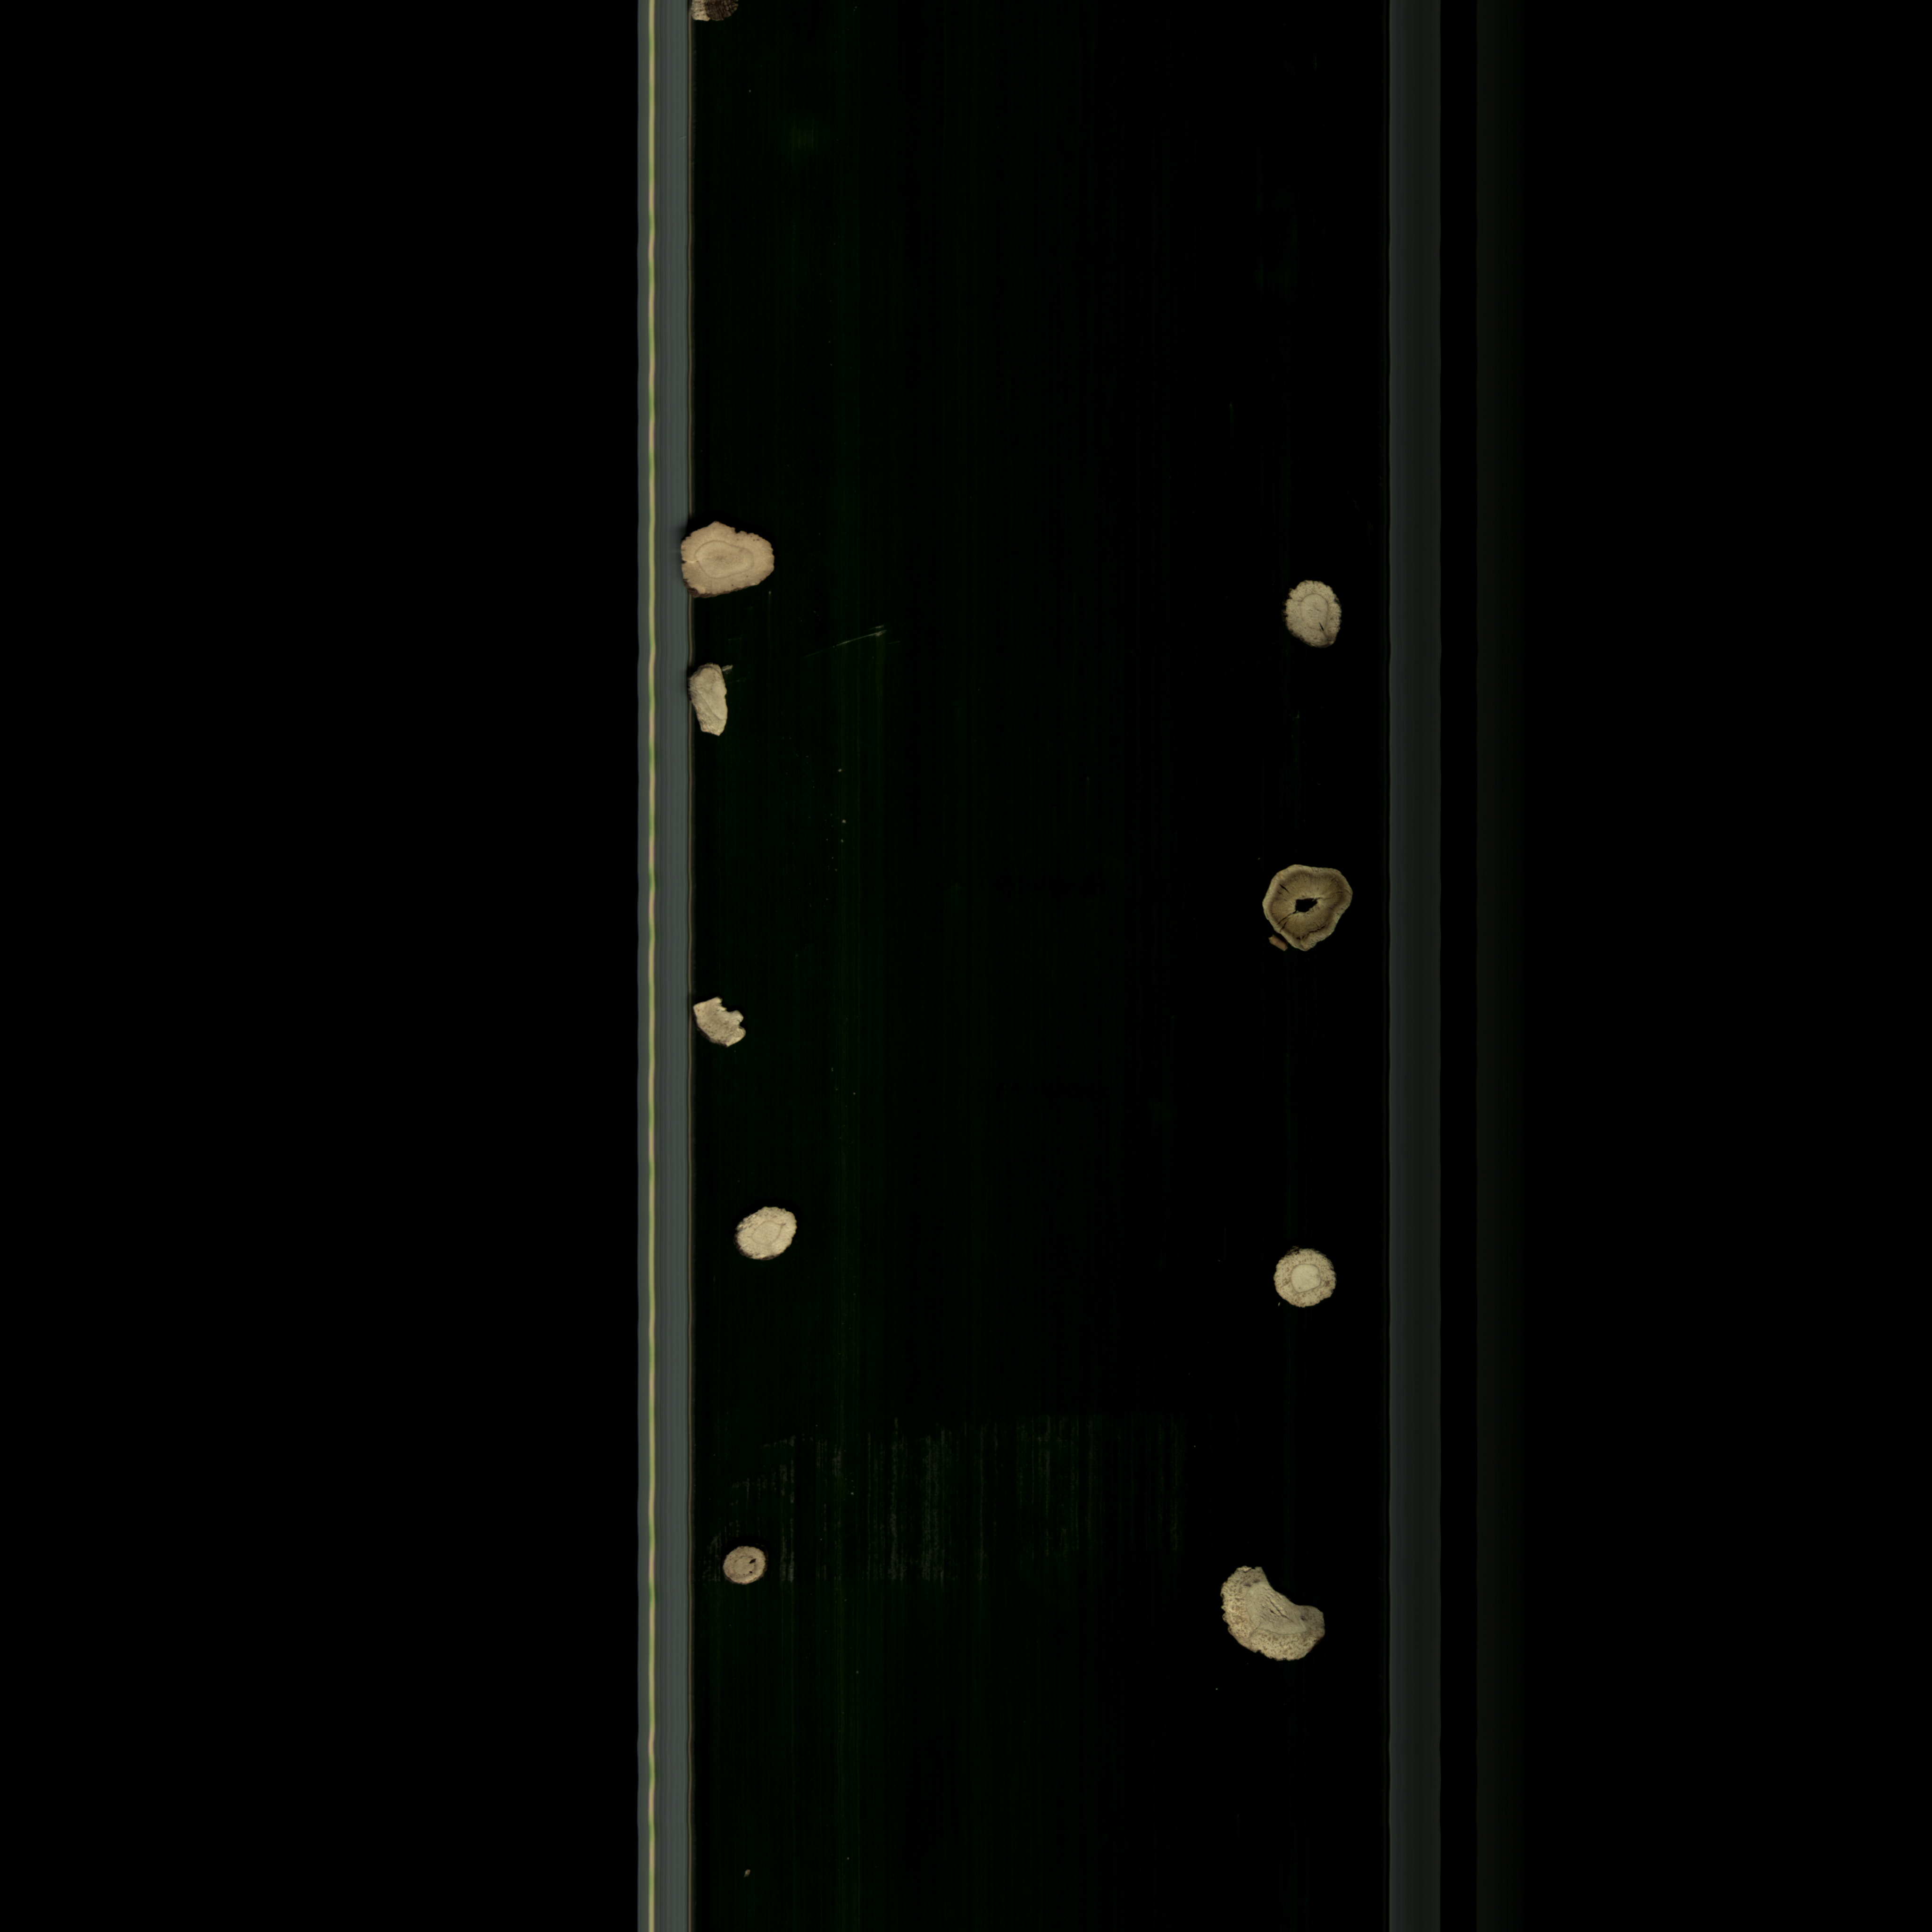debris: (1214, 1560, 1339, 1675)
distortion: (1270, 571, 1352, 660)
dreg: (686, 998, 777, 1069), (686, 663, 736, 741)
hole: (718, 1536, 786, 1598)
moldy: (1258, 849, 1361, 971), (663, 508, 787, 607)
